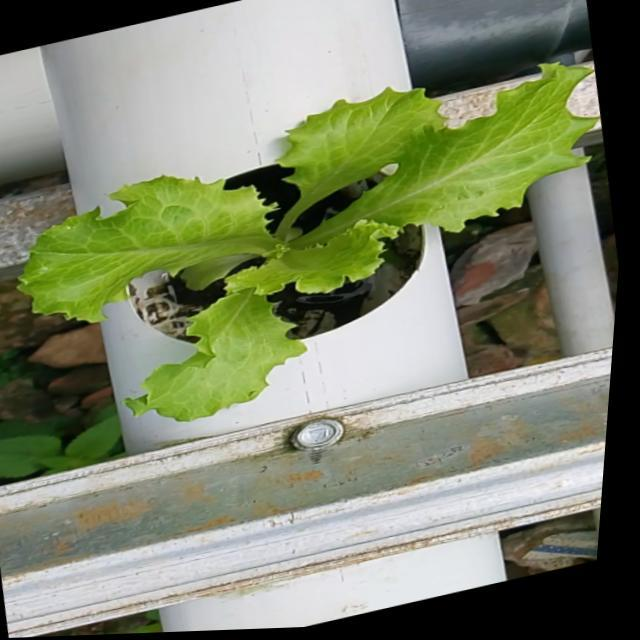Baby: (16, 71, 601, 433)
